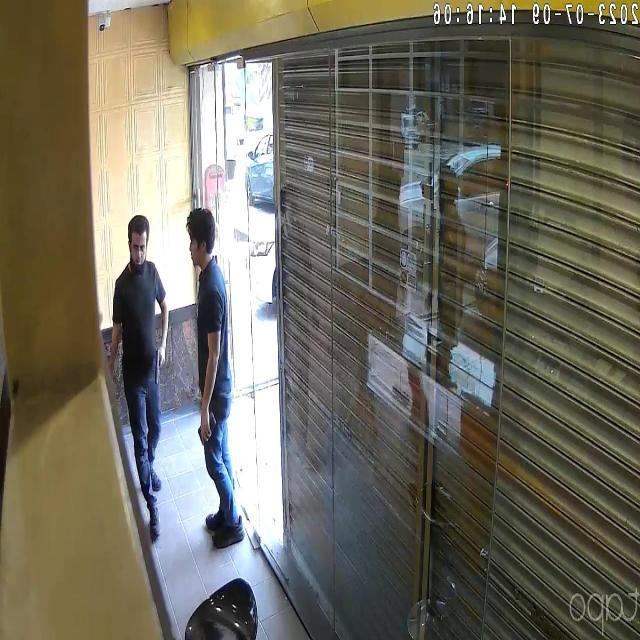Gun: (148, 348, 171, 387)
